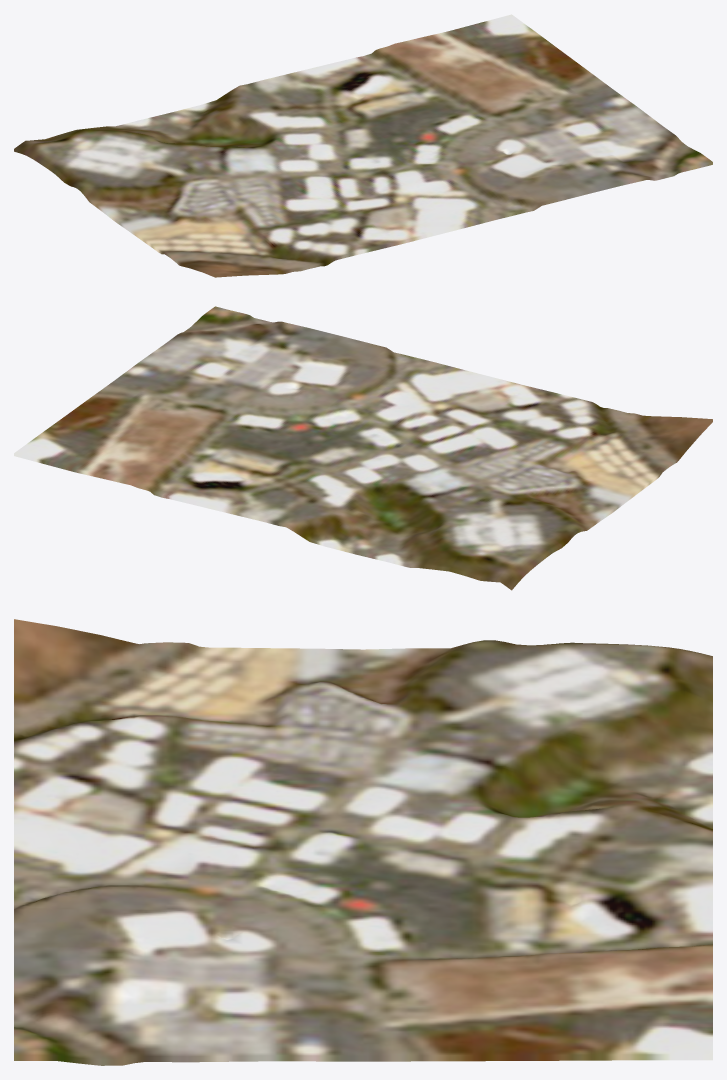
Rendered from terrain_r4_c6_lod1.glb.
3 views of the same model, one above another, from view 1: azimuth 30°, elevation 25°; view 2: azimuth 150°, elevation 25°; view 3: azimuth 270°, elevation 25° (orthographic). The views are drawn at different scales.
Parts seen in each view (by area): view 1: terrain_r4_c6_lod1; view 2: terrain_r4_c6_lod1; view 3: terrain_r4_c6_lod1.
Part boxes in pixels (x1,y1,x2,y2): terrain_r4_c6_lod1: (14, 14, 712, 277); terrain_r4_c6_lod1: (14, 306, 712, 590); terrain_r4_c6_lod1: (14, 619, 712, 1065).
Size of the model in its own units: 1125 by 56.93 by 787.
Materials: 1 (1 with a texture image).
